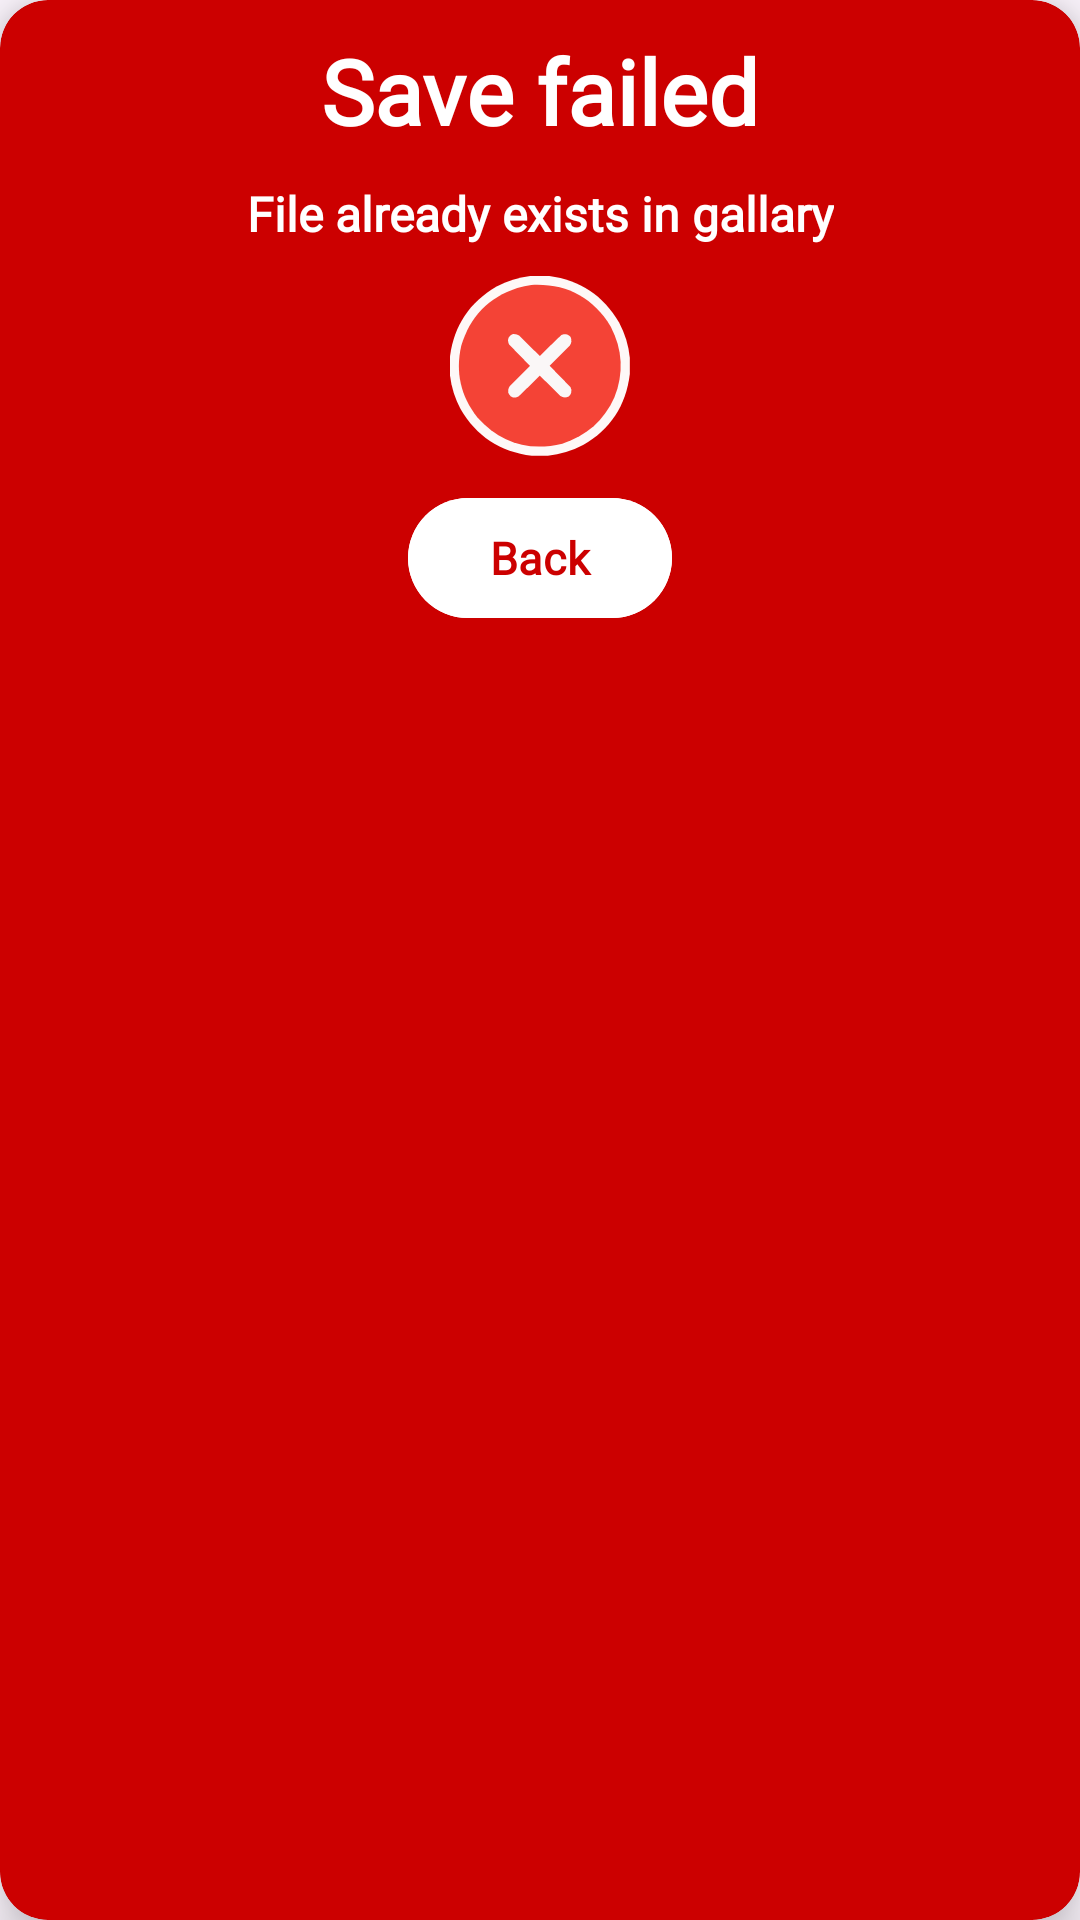

Where to tap for icons on this 1080px×1920px app screen, as point (x, y):
remove: point (540, 366)
